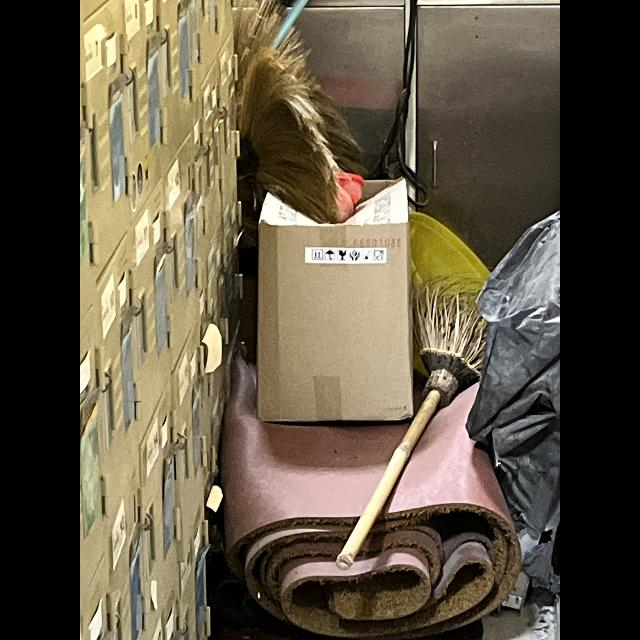cardboard_box: (252, 172, 422, 424)
